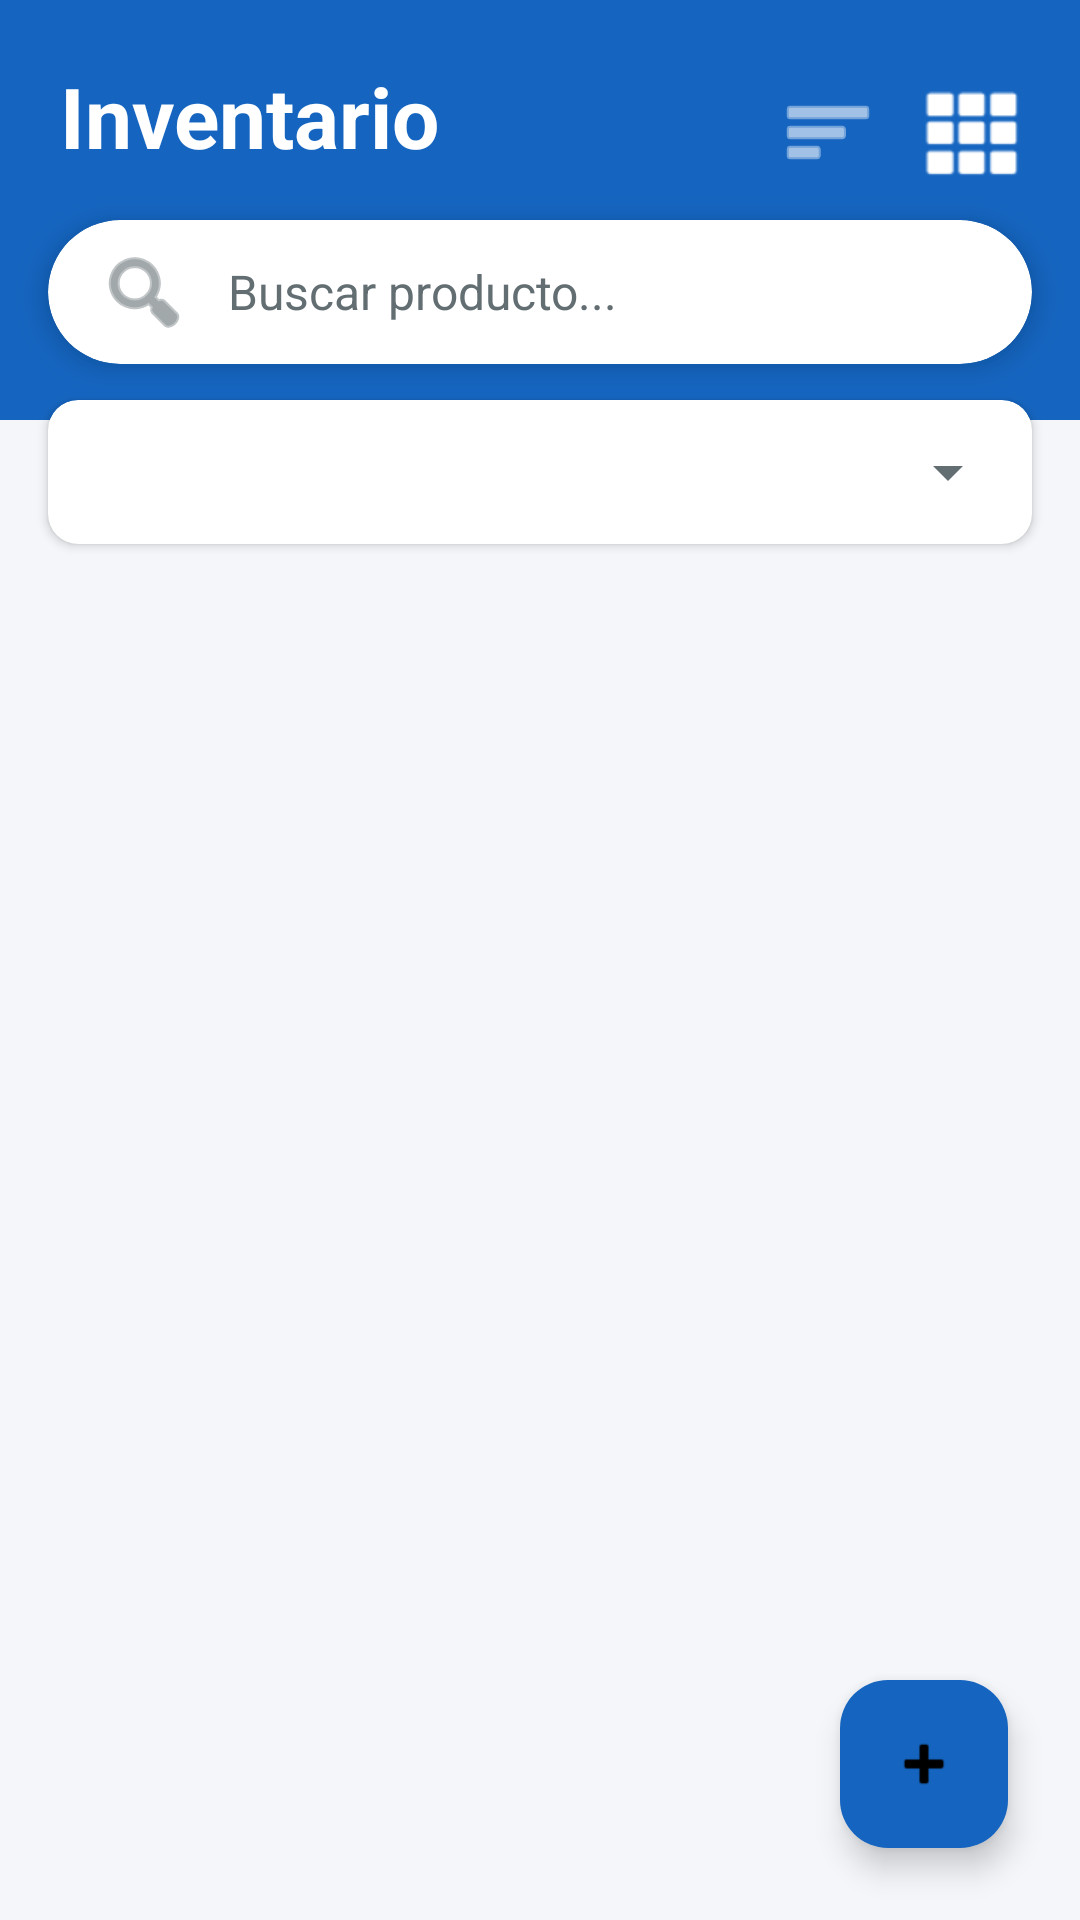

Icon bounding boxes for this 1080 × 1920 phone screenshot, format (left=x1, top=y1, right=x2, bottom=y2):
add: (left=840, top=1680, right=1008, bottom=1848)
dialer: (left=925, top=91, right=1018, bottom=175)
sort by size: (left=787, top=106, right=869, bottom=159)
